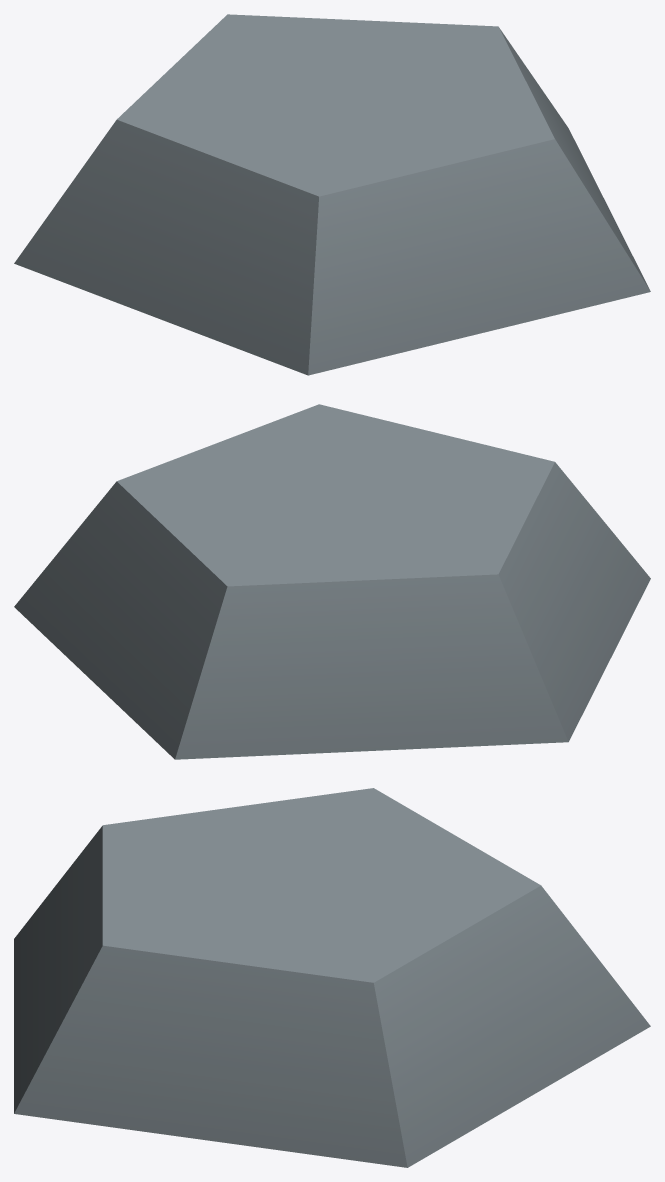
The model's file is rock_single_A.glb.
3 renders of one model, top to bottom at view 1: azimuth 30°, elevation 25°; view 2: azimuth 150°, elevation 25°; view 3: azimuth 270°, elevation 25°, orthographic. The views are drawn at different scales.
Visible parts, largest first — view 1: rock_single_A; view 2: rock_single_A; view 3: rock_single_A.
Boxes of the visible parts, x1,y1,x2,y2 form: rock_single_A: (14,14,650,375); rock_single_A: (14,404,650,759); rock_single_A: (14,788,650,1167).
Bounding box in the file's own units: 0.2982 × 0.0693 × 0.2836.
Materials: 1 (1 with a texture image).
